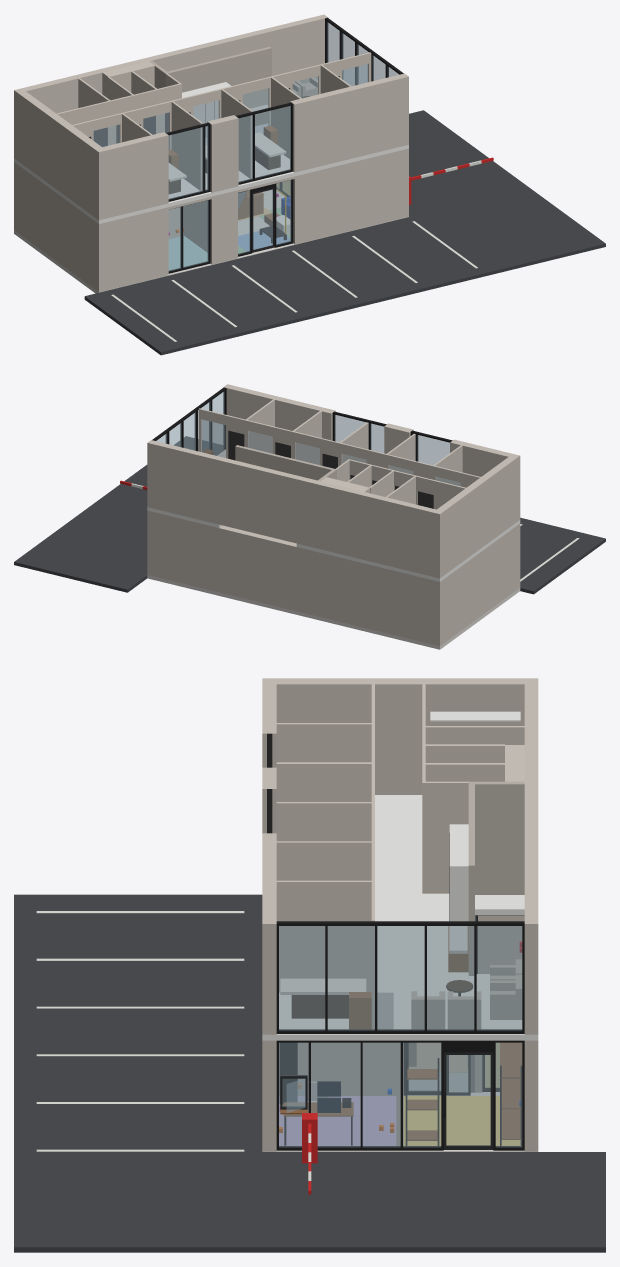
File: BLM_Lobby_v6.dae
3 renders of one model, top to bottom at view 1: azimuth 30°, elevation 25°; view 2: azimuth 150°, elevation 25°; view 3: azimuth 270°, elevation 25°, orthographic. The views are drawn at different scales.
Parts seen in each view (by area): view 1: wall_dark, asphalt, glass, wall, steel, wall_grey, slab, floor, line, wood, white, z_staff (+4 smaller); view 2: wall_dark, asphalt, wall, glass, steel, wall_grey, floor, slab, door; view 3: asphalt, glass, wall, wall_dark, slab, steel, wall_grey, wood, chair, z_lug, white, z_office (+8 smaller).
Boxes of the visible parts, x1=… form: wall_dark: x1=14, y1=14, x2=408, y2=291; asphalt: x1=84, y1=110, x2=605, y2=355; glass: x1=93, y1=22, x2=398, y2=271; wall: x1=57, y1=52, x2=371, y2=252; steel: x1=166, y1=17, x2=403, y2=273; wall_grey: x1=149, y1=46, x2=271, y2=108; slab: x1=14, y1=123, x2=408, y2=223; floor: x1=14, y1=190, x2=408, y2=293; line: x1=111, y1=160, x2=481, y2=341; wood: x1=168, y1=112, x2=279, y2=225; white: x1=182, y1=82, x2=290, y2=234; z_staff: x1=168, y1=236, x2=207, y2=270; wall_dark: x1=147, y1=384, x2=520, y2=645; asphalt: x1=14, y1=436, x2=605, y2=594; wall: x1=198, y1=399, x2=480, y2=509; glass: x1=157, y1=391, x2=460, y2=485; steel: x1=152, y1=387, x2=452, y2=461; wall_grey: x1=235, y1=445, x2=336, y2=481; floor: x1=147, y1=575, x2=520, y2=649; slab: x1=147, y1=507, x2=520, y2=581; door: x1=228, y1=430, x2=433, y2=508; asphalt: x1=14, y1=894, x2=605, y2=1252; glass: x1=279, y1=915, x2=522, y2=1147; wall: x1=276, y1=684, x2=524, y2=1145; wall_dark: x1=262, y1=678, x2=538, y2=1151; slab: x1=262, y1=795, x2=538, y2=1040; steel: x1=267, y1=733, x2=524, y2=1150; wall_grey: x1=468, y1=781, x2=524, y2=975; wood: x1=280, y1=926, x2=522, y2=1140; chair: x1=411, y1=959, x2=522, y2=1029; z_lug: x1=403, y1=1043, x2=520, y2=1145; white: x1=377, y1=711, x2=520, y2=1029; z_office: x1=279, y1=1096, x2=396, y2=1145.
Size of the model in its own units: 18480 by 13110 by 5700.
